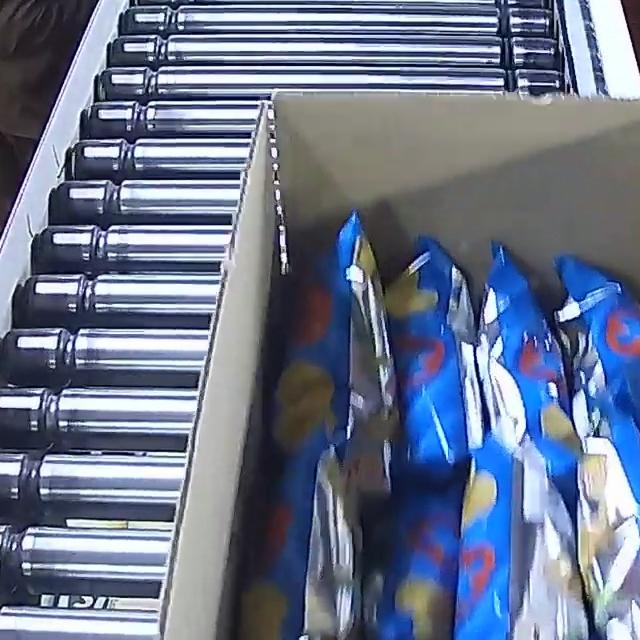paprika: (241, 204, 640, 640)
